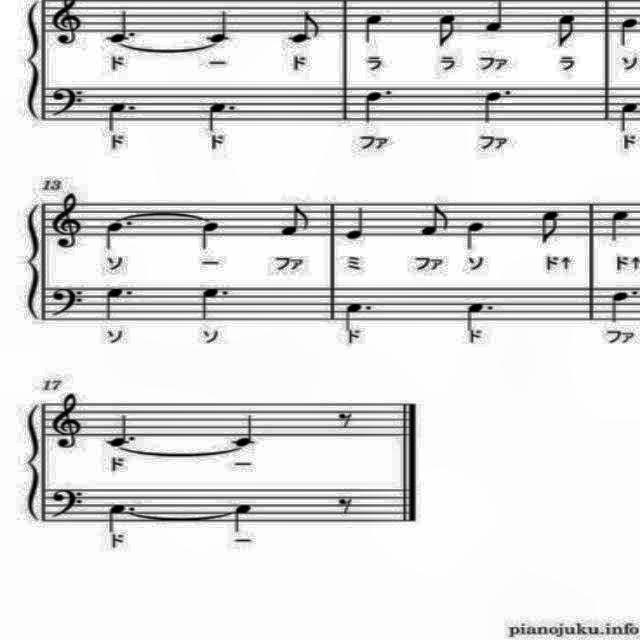Bass-clef: (50, 280, 88, 326), (46, 79, 86, 121), (48, 480, 86, 520)
Eighth-note: (414, 198, 452, 242), (286, 8, 324, 48), (536, 203, 568, 247), (277, 202, 311, 242), (432, 10, 460, 50), (554, 10, 582, 50)
Eighth-rest: (336, 493, 356, 521), (336, 408, 354, 432)
Quarter-dot: (195, 284, 233, 324), (105, 410, 143, 450), (105, 5, 141, 47), (482, 84, 516, 124), (362, 85, 394, 127), (104, 98, 140, 134), (102, 218, 136, 256), (102, 282, 134, 322), (607, 286, 639, 326), (205, 98, 239, 134), (105, 497, 136, 535), (340, 299, 374, 333), (464, 298, 498, 332)
Quarter-note: (356, 8, 392, 48), (202, 8, 238, 46), (228, 500, 260, 536), (342, 204, 370, 244), (606, 206, 634, 246), (230, 411, 258, 449), (193, 217, 224, 251), (614, 98, 640, 136), (464, 216, 488, 254)
Treble-clef: (46, 190, 90, 252), (48, 392, 90, 452)
